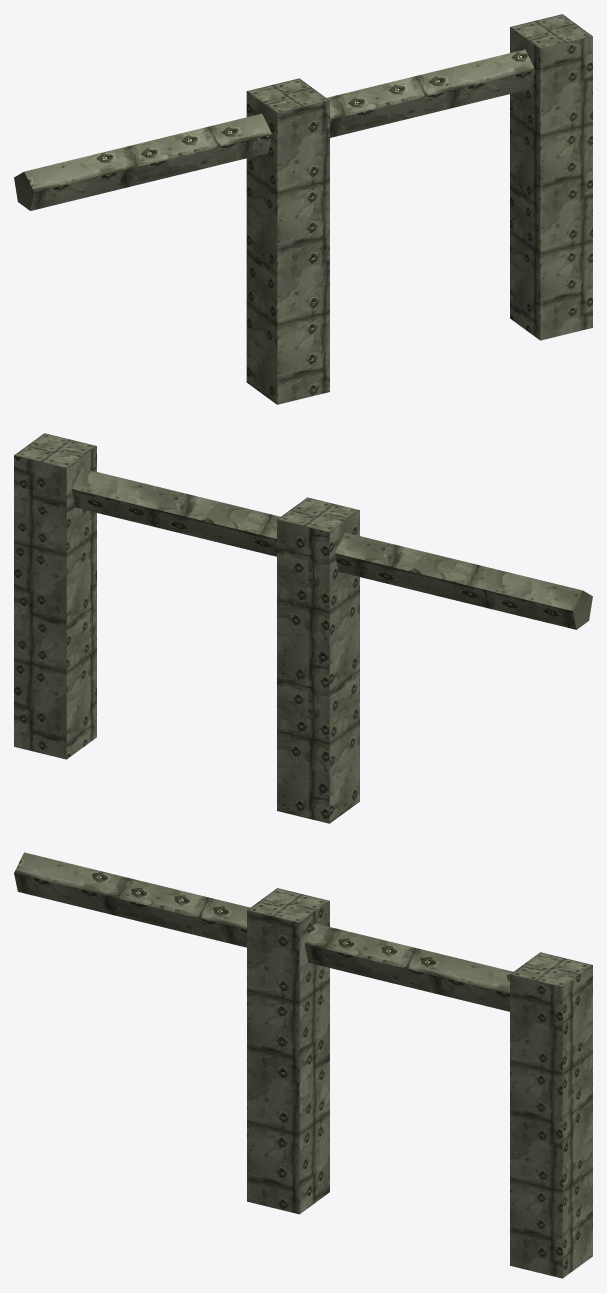
Rendered from Fence_metal2.glb.
3 views of the same model, one above another, from view 1: azimuth 30°, elevation 25°; view 2: azimuth 150°, elevation 25°; view 3: azimuth 330°, elevation 25° (orthographic).
Visible parts, largest first — view 1: Cube; view 2: Cube; view 3: Cube.
Boxes of the visible parts, x1=… form: Cube: x1=14, y1=14, x2=592, y2=404; Cube: x1=14, y1=433, x2=592, y2=823; Cube: x1=14, y1=852, x2=592, y2=1278.
Size of what is drawn, in the model's own units: 2.1 by 1.06 by 0.2.
Materials: 1 (1 with a texture image).
